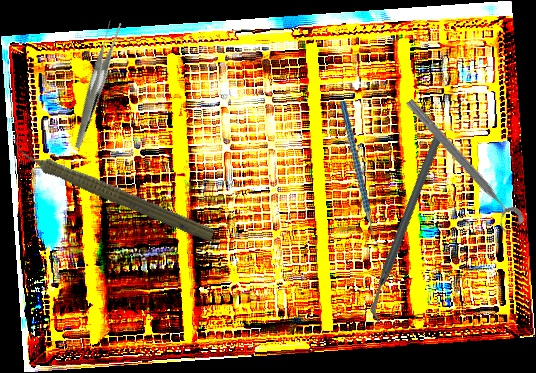Chopper: (311, 131, 503, 325), (325, 100, 401, 251)
Dressing Forceps: (39, 17, 152, 149)
Fixation Ring: (395, 94, 527, 238)
Handpiece: (5, 136, 219, 246)
